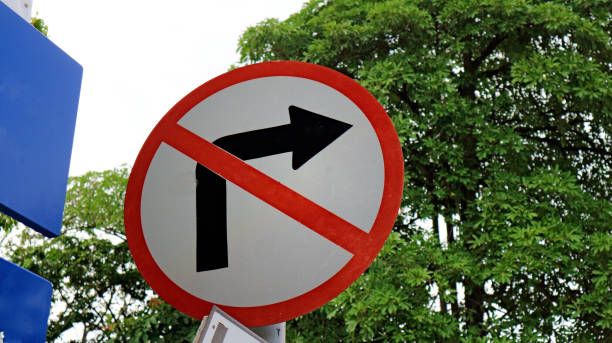saga_donulmez: (121, 61, 399, 324)
